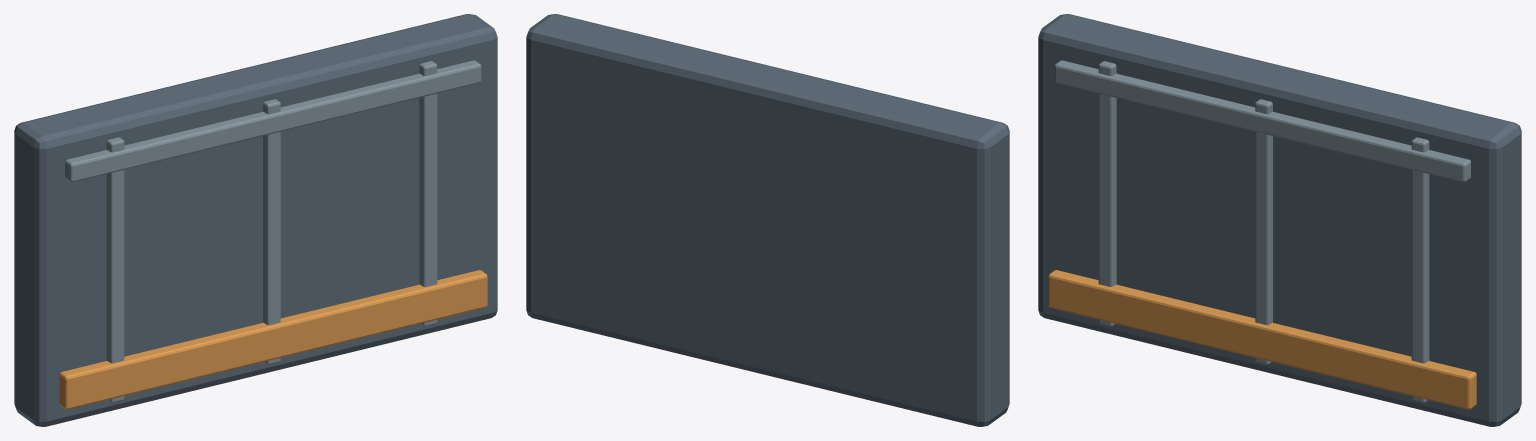
The model's file is training-wall.glb.
3 renders of one model, left to right at view 1: azimuth 30°, elevation 25°; view 2: azimuth 150°, elevation 25°; view 3: azimuth 330°, elevation 25°, orthographic.
Parts seen in each view (by area): view 1: Visual_Wall_Main, Visual_Merged_ZA_TrainingWall_Root_Neutral_Steel, Visual_Wall_Bumper; view 2: Visual_Wall_Main; view 3: Visual_Wall_Main, Visual_Merged_ZA_TrainingWall_Root_Neutral_Steel, Visual_Wall_Bumper.
Boxes of the visible parts, left/top/right/bottom form: Visual_Wall_Main: left=14, top=14, right=497, bottom=426; Visual_Merged_ZA_TrainingWall_Root_Neutral_Steel: left=65, top=60, right=481, bottom=402; Visual_Wall_Bumper: left=59, top=270, right=487, bottom=409; Visual_Wall_Main: left=526, top=14, right=1009, bottom=426; Visual_Wall_Main: left=1038, top=14, right=1521, bottom=426; Visual_Merged_ZA_TrainingWall_Root_Neutral_Steel: left=1054, top=60, right=1470, bottom=402; Visual_Wall_Bumper: left=1048, top=270, right=1476, bottom=409.
Size of the model in its own units: 4 by 2.4 by 0.53.
